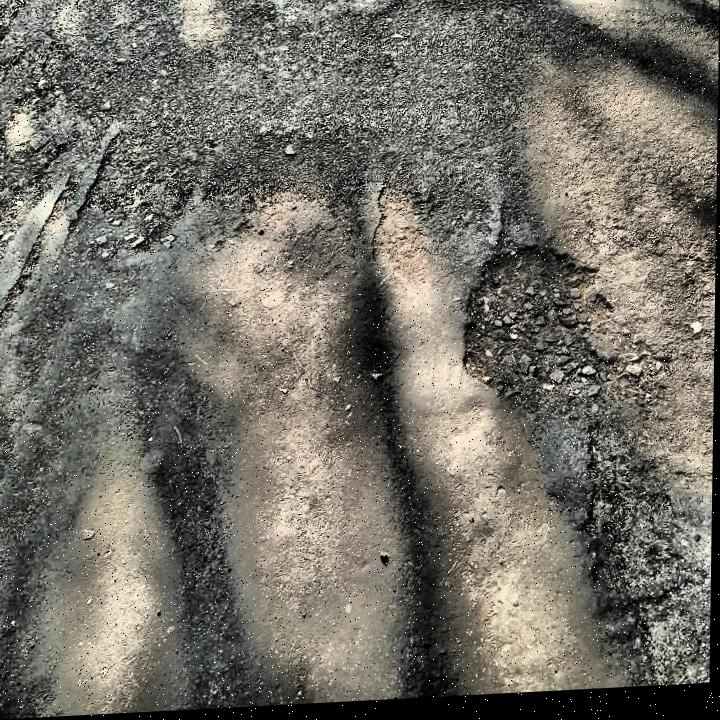pothole: (453, 240, 637, 416)
